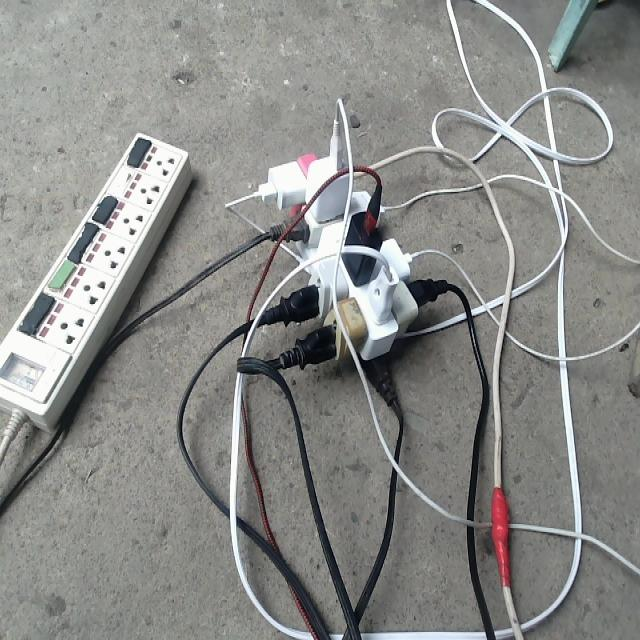-: (211, 76, 481, 455)
